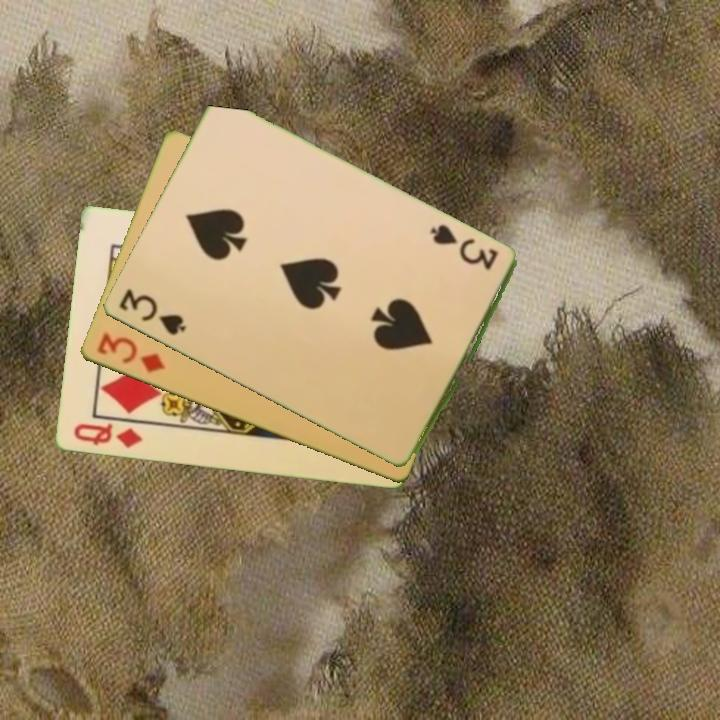3d: (92, 330, 168, 376)
3s: (115, 285, 189, 339), (428, 220, 501, 274)
Qd: (70, 420, 145, 452)
